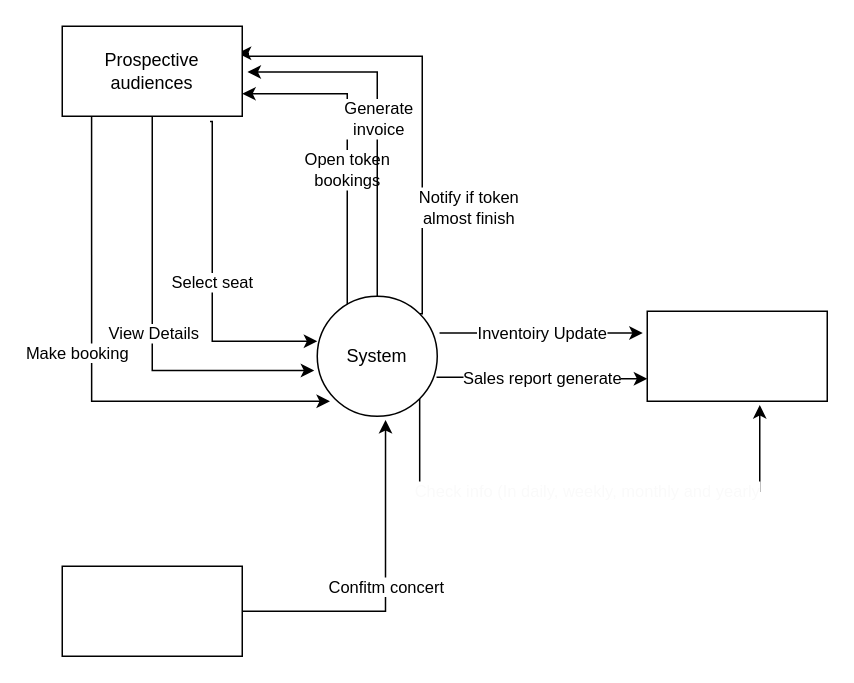
Some shapes in this 854 by 683 pixel diagram are drawn without their labels. The shapes that lost their labels are listed below. From the top down, each one's box as (x1, y1, x2, y2) in pixels, then its label:
(646, 310, 827, 401): Admin
(61, 565, 242, 656): Artist
